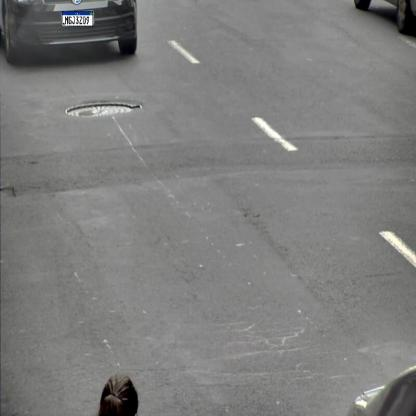PlacaM: (62, 11, 93, 26)
